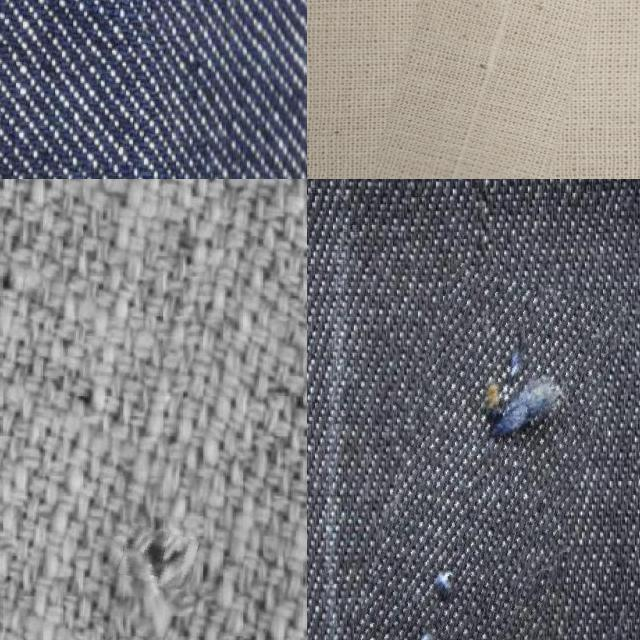other: (120, 527, 196, 587)
stains: (368, 269, 599, 640), (321, 0, 571, 179)
